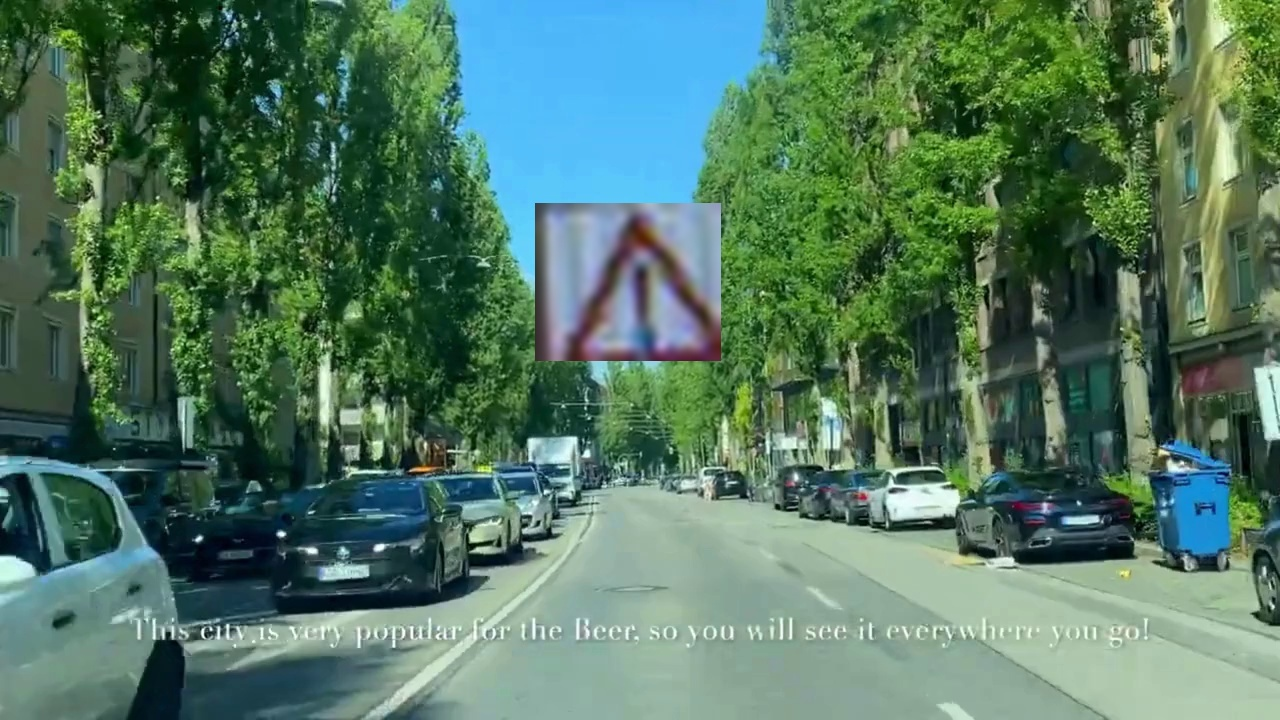Caution: (535, 203, 721, 361)
